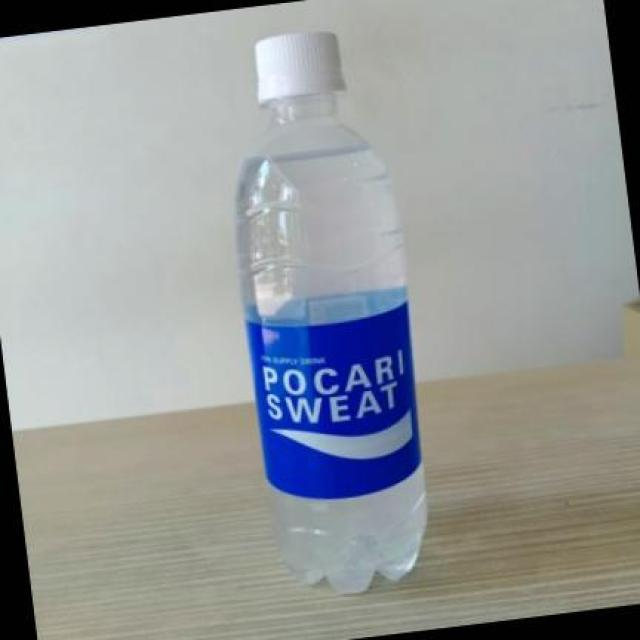high: (239, 34, 427, 593)
